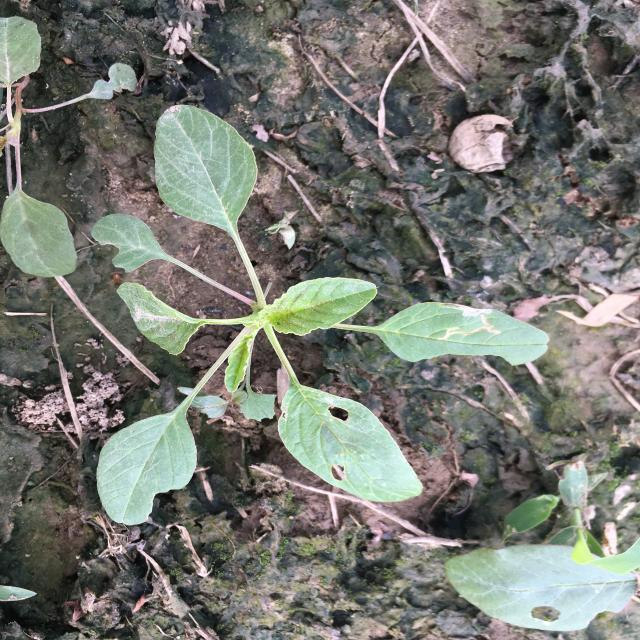PalmerAmaranth: (90, 104, 550, 526), (0, 16, 138, 278)
